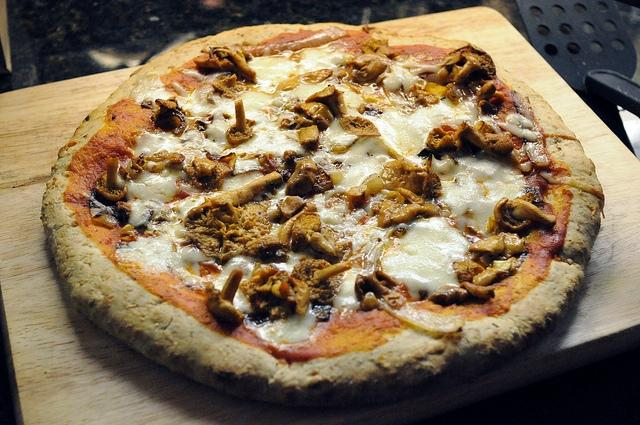mushroom: (185, 204, 272, 258), (290, 258, 352, 304), (492, 192, 556, 234), (203, 269, 244, 331), (452, 122, 516, 161), (194, 46, 256, 80), (305, 84, 348, 118), (225, 99, 257, 144), (454, 49, 496, 83), (95, 156, 126, 200), (355, 270, 397, 301), (285, 158, 317, 195), (352, 58, 387, 82), (339, 117, 382, 136), (452, 261, 486, 284), (425, 128, 457, 152), (436, 45, 472, 66), (471, 268, 511, 286), (470, 235, 504, 255), (150, 98, 177, 122), (310, 232, 336, 256), (460, 282, 496, 299), (297, 125, 319, 150), (346, 184, 367, 208), (192, 158, 216, 178), (271, 280, 296, 298), (359, 292, 381, 312)
